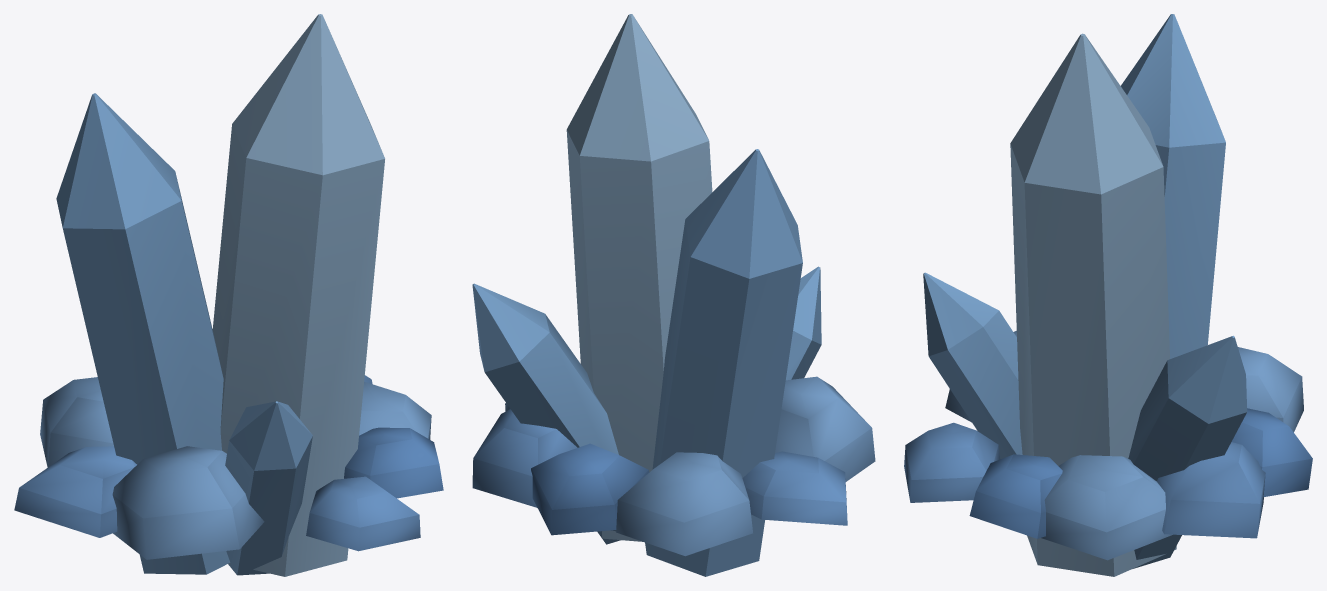
File: IceSpike3.fbx
3 views of the same model, side by side, from view 1: azimuth 30°, elevation 25°; view 2: azimuth 150°, elevation 25°; view 3: azimuth 270°, elevation 25° (orthographic). The views are drawn at different scales.
Visible parts, largest first — view 1: IceSpike; view 2: IceSpike; view 3: IceSpike.
Boxes of the visible parts, left/top/right/bottom form: IceSpike: left=14, top=14, right=443, bottom=576; IceSpike: left=472, top=14, right=875, bottom=576; IceSpike: left=904, top=14, right=1312, bottom=576.
Size of the model in its own units: 8.04 by 10.46 by 7.27.
